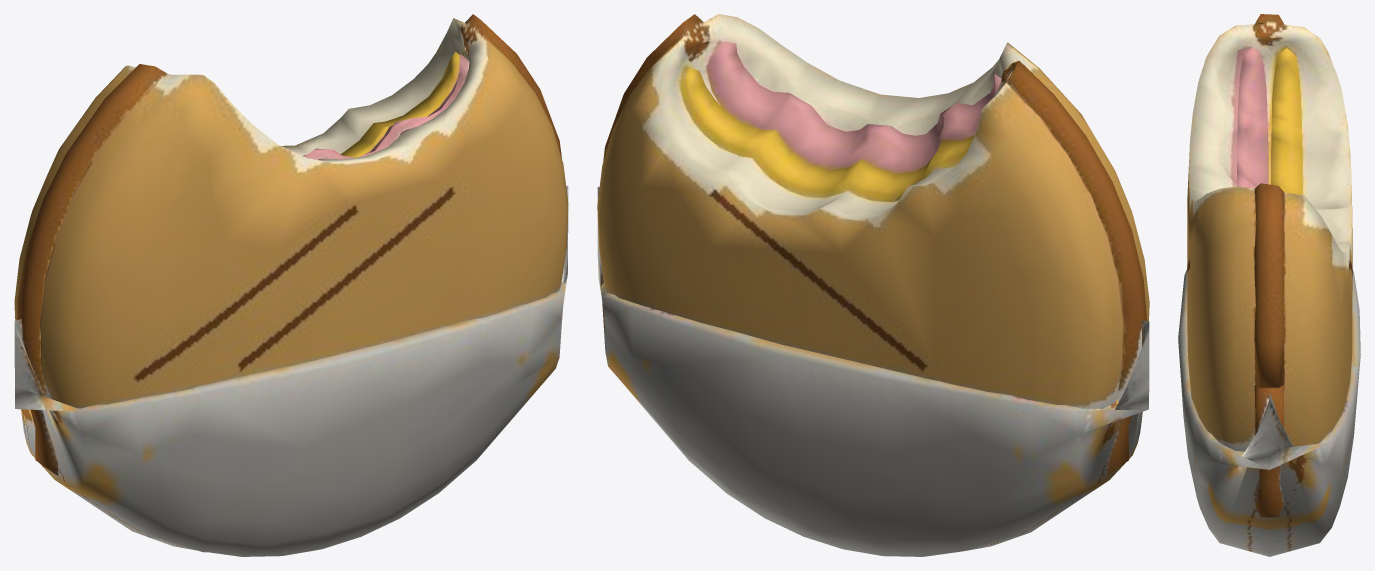
The model's file is hotsand_b1.glb.
3 views of the same model, side by side, from view 1: azimuth 30°, elevation 25°; view 2: azimuth 150°, elevation 25°; view 3: azimuth 270°, elevation 25° (orthographic). The views are drawn at different scales.
Visible parts, largest first — view 1: prop_hotsand_b1_felt; view 2: prop_hotsand_b1_felt; view 3: prop_hotsand_b1_felt.
Boxes of the visible parts, <box> form: prop_hotsand_b1_felt: <box>14,14,568,556</box>; prop_hotsand_b1_felt: <box>597,14,1149,556</box>; prop_hotsand_b1_felt: <box>1178,14,1360,556</box>.
Bounding box in the file's own units: 0.1686 × 0.1504 × 0.0546.
Materials: 1 (1 with a texture image).
